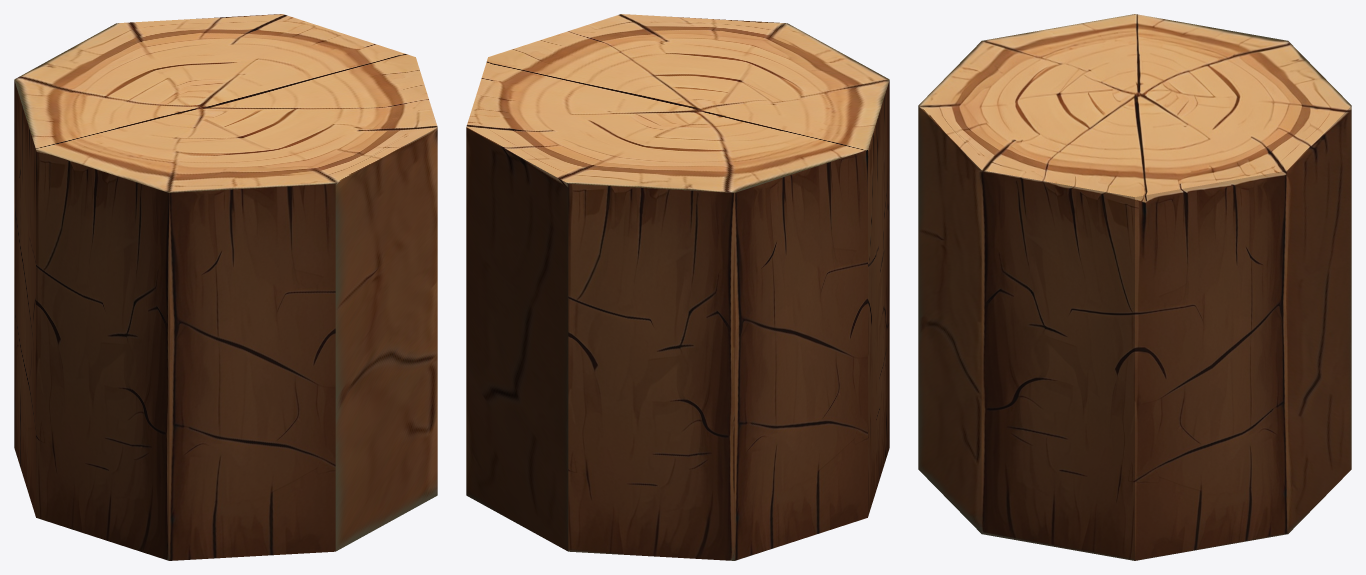
File: log.glb
The picture shows the model from 3 angles, left to right: view 1: azimuth 30°, elevation 25°; view 2: azimuth 150°, elevation 25°; view 3: azimuth 270°, elevation 25°; orthographic projection.
Visible parts, largest first — view 1: Cylinder; view 2: Cylinder; view 3: Cylinder.
Boxes of the visible parts, bbox=[...] form: Cylinder: bbox=[14, 14, 437, 560]; Cylinder: bbox=[466, 14, 889, 560]; Cylinder: bbox=[918, 14, 1351, 560].
Size of the model in its own units: 1.08 by 1 by 1.08.
1 material, 1 textured.
